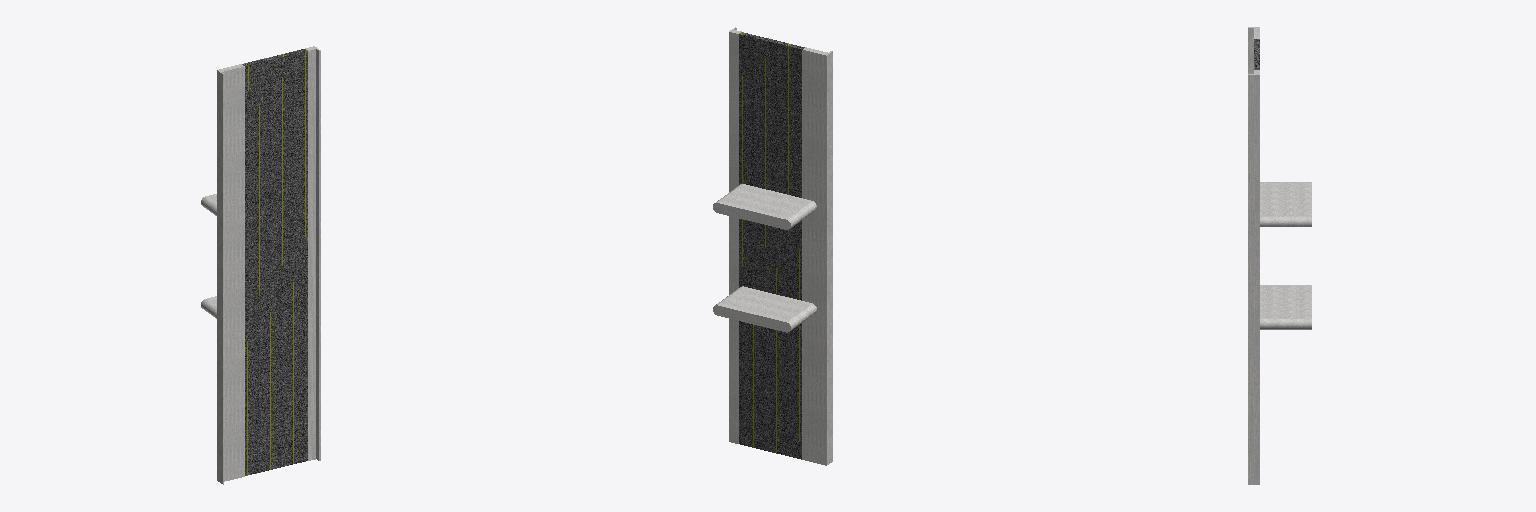
The picture shows the model from 3 angles: view 1: azimuth 30°, elevation 25°; view 2: azimuth 150°, elevation 25°; view 3: azimuth 270°, elevation 25°; orthographic projection.
Visible parts, largest first — view 1: Cube.001_Cube.003, Cube.003_Cube.005, Cube.002_Cube.004, Cube.004_Cube.006, Cube_Cube.002; view 2: Cube.001_Cube.003, Cube.003_Cube.005, Cube.002_Cube.004, Cylinder.000_Cylinder.002, Cylinder.001_Cylinder.003, Cube_Cube.002; view 3: Cube.002_Cube.004, Cube.004_Cube.006, Cylinder.000_Cylinder.002, Cylinder.001_Cylinder.003.
Boxes of the visible parts, box(x1,y1,x2,y2) form: Cube.001_Cube.003: box(242, 49, 307, 475); Cube.003_Cube.005: box(217, 64, 244, 481); Cube.002_Cube.004: box(305, 46, 316, 460); Cube.004_Cube.006: box(316, 48, 320, 460); Cube_Cube.002: box(220, 72, 223, 484); Cube.001_Cube.003: box(739, 32, 804, 459); Cube.003_Cube.005: box(802, 47, 829, 465); Cube.002_Cube.004: box(729, 30, 741, 443); Cylinder.000_Cylinder.002: box(713, 184, 816, 229); Cylinder.001_Cylinder.003: box(713, 286, 816, 332); Cube_Cube.002: box(829, 51, 832, 462); Cube.002_Cube.004: box(1254, 70, 1259, 484); Cube.004_Cube.006: box(1248, 74, 1253, 484); Cylinder.000_Cylinder.002: box(1260, 182, 1311, 226); Cylinder.001_Cylinder.003: box(1260, 285, 1311, 329).
Bounding box in the file's own units: 20 × 80 × 11.33.
Materials: 3 (2 with a texture image).